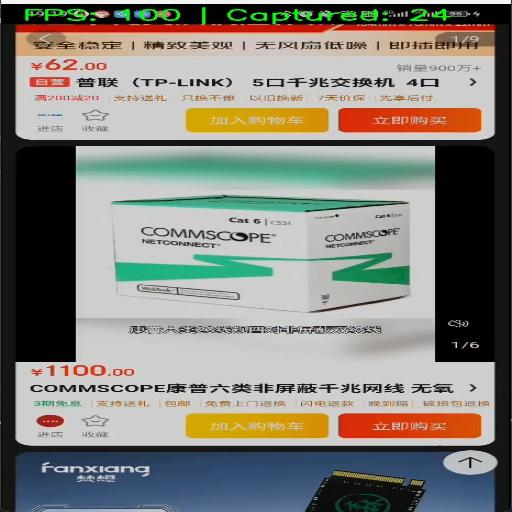back: (28, 30, 68, 47)
butten: (14, 143, 494, 447)
